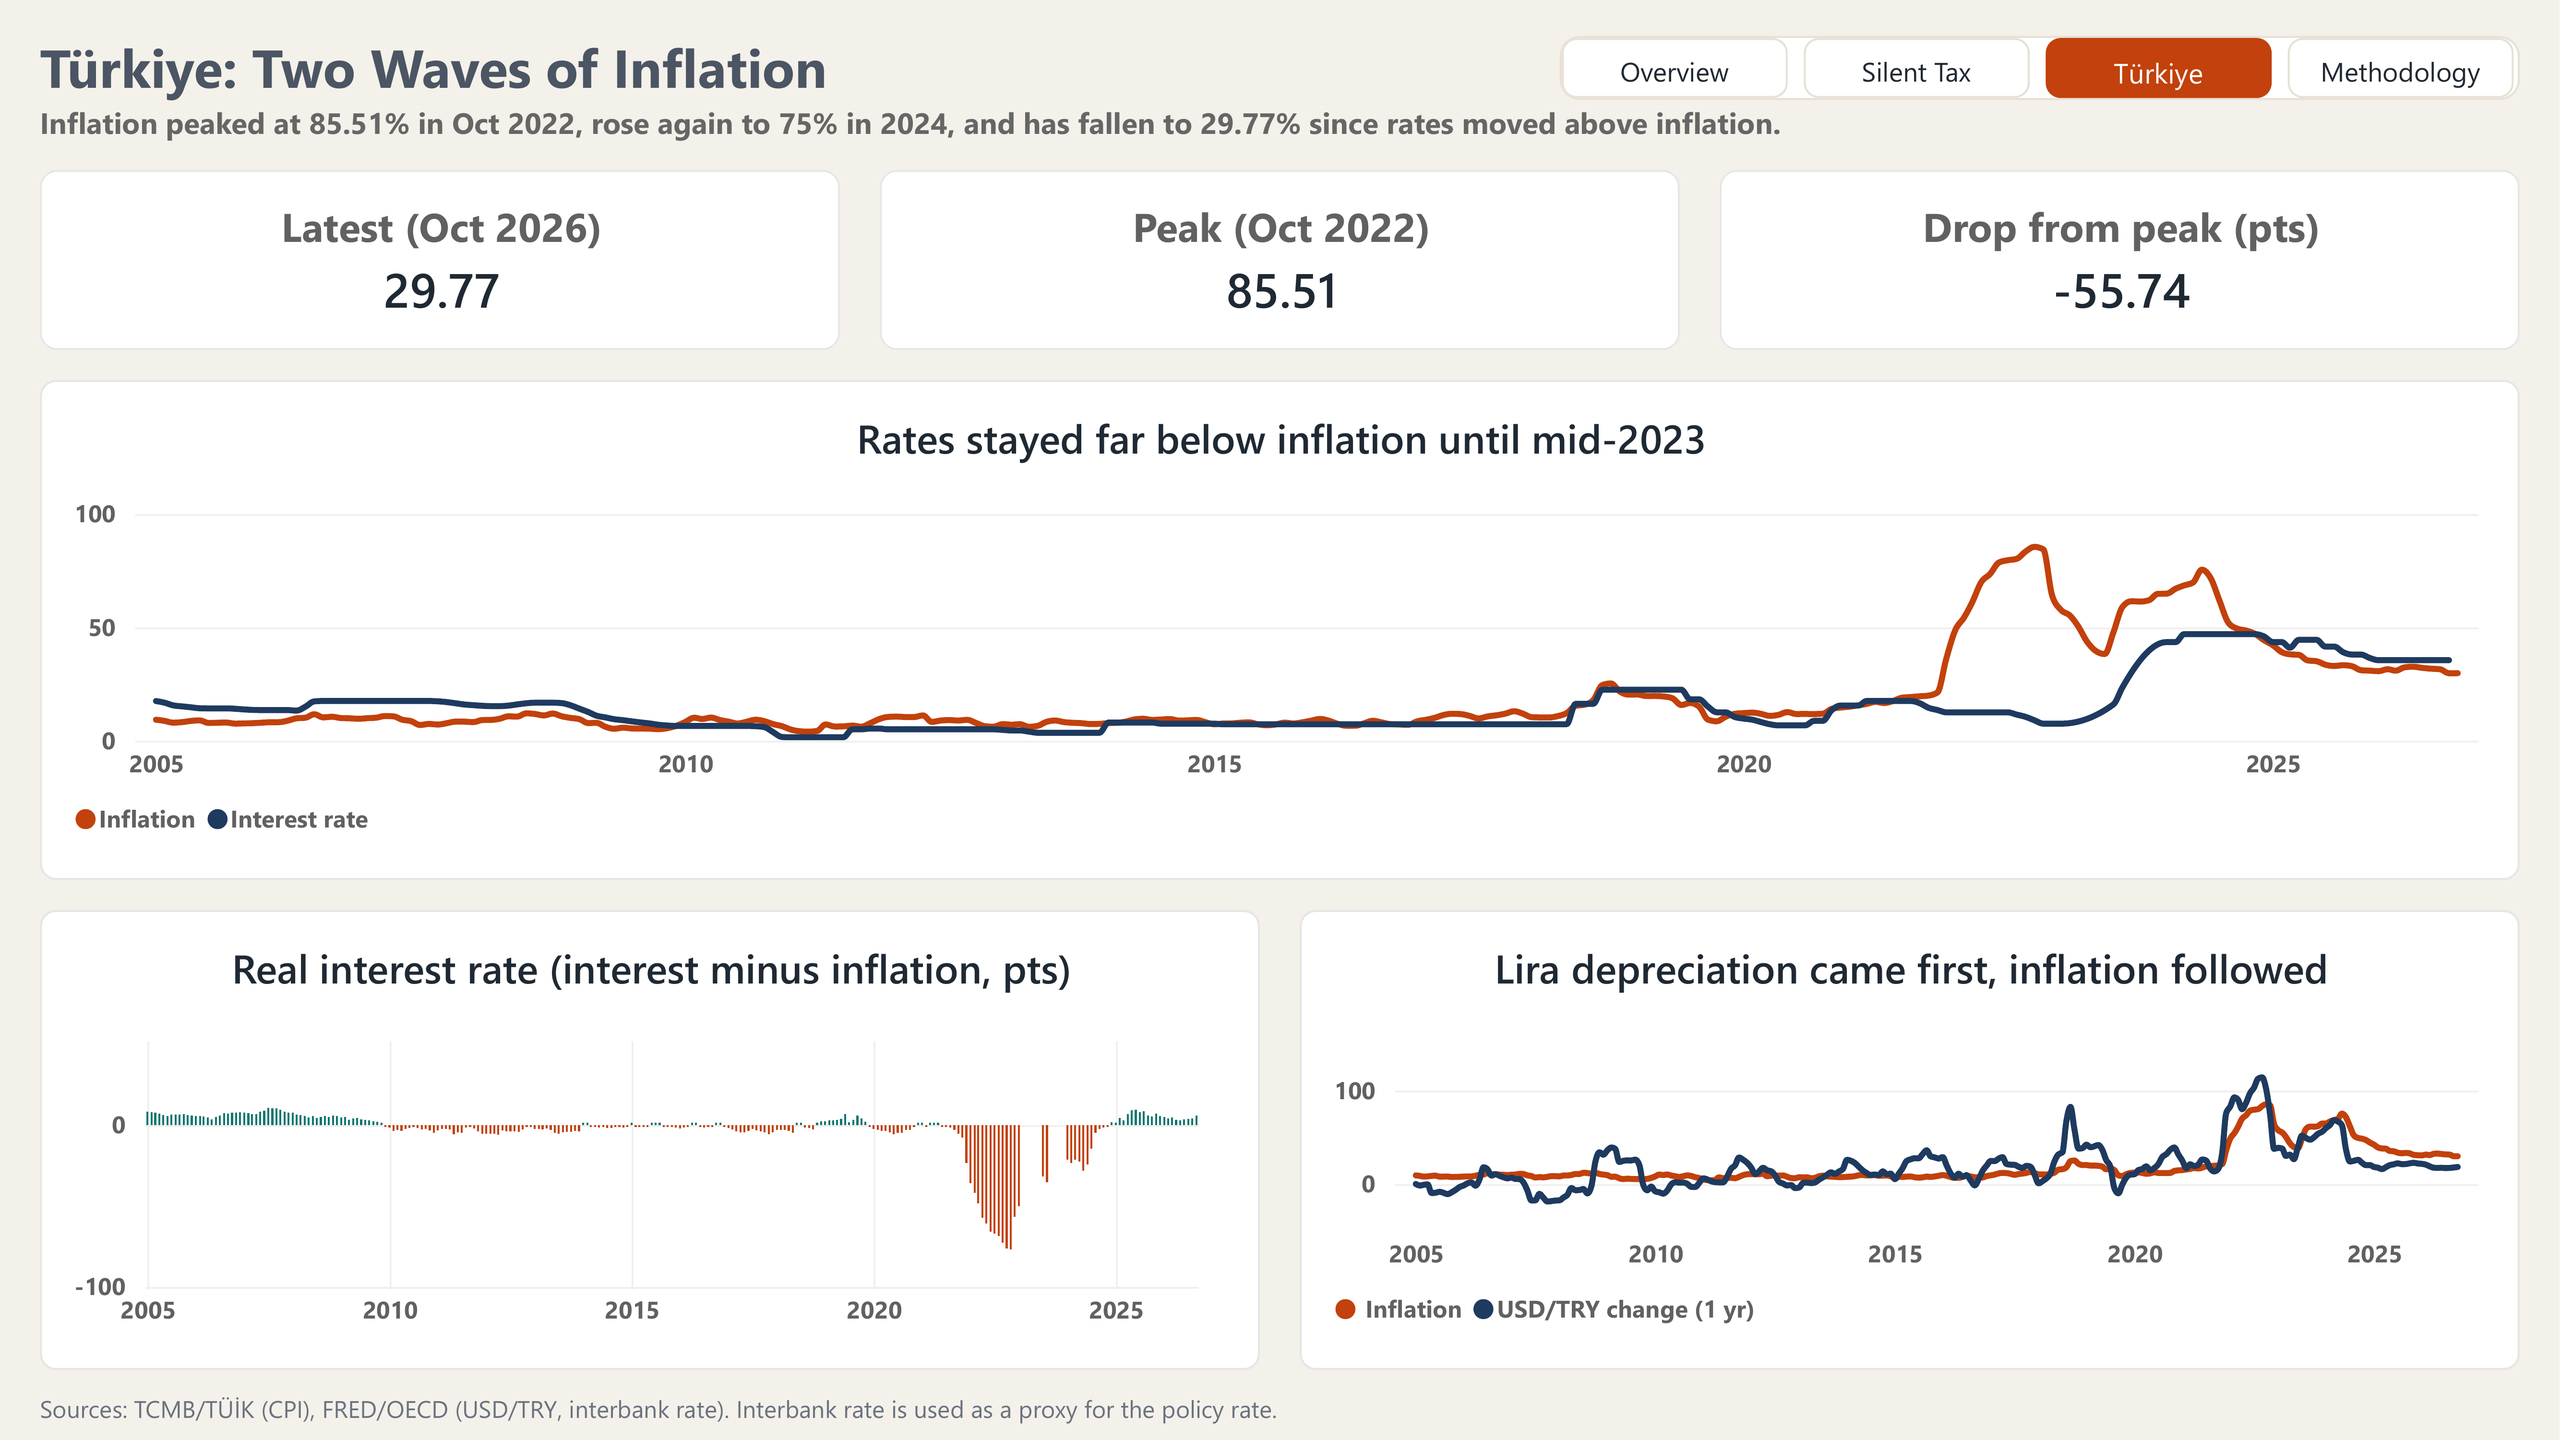

Layout of this report page (visuals, bound fields, positions):
{"tool":"powerbi","page":{"name":"Türkiye","canvas":[1280,720],"ordinal":2},"visuals":[{"type":"lineChart","title":"Rates stayed far below inflation until mid-2023","fields":{"Category":["Calendar.Date"],"Y":["Turkey Monthly.TR Annual Inflation","Interest Rate.TR Interest Rate"]},"box":[20,190,1240,250],"z":0},{"type":"cardVisual","title":"Latest (Oct 2026)","fields":{"Data":["Turkey Monthly.TR Latest"]},"box":[20,85,400,90],"z":1000},{"type":"cardVisual","fields":{"Data":["Turkey Monthly.TR Drop From Peak"]},"box":[860,85,400,90],"z":2000},{"type":"cardVisual","fields":{"Data":["Turkey Monthly.TR Peak"]},"box":[440,85,400,90],"z":3000},{"type":"clusteredColumnChart","title":"Real interest rate (interest minus inflation, pts)","fields":{"Category":["Calendar.Date"],"Y":["Interest Rate.TR Real Rate"]},"box":[20,455,610,230],"z":4000},{"type":"lineChart","title":"Lira depreciation came first, inflation followed","fields":{"Category":["Calendar.Date"],"Y":["Turkey Monthly.TR Annual Inflation","USD TRY.TR Lira Depreciation"]},"box":[650,455,610,230],"z":5000},{"type":"textbox","box":[20,15,1240,60],"z":6000},{"type":"textbox","box":[20,695,1240.6,22],"z":7000},{"type":"pageNavigator","box":[780,18,480,32],"z":7001}]}

Visuals, with their boxes in screenshot pixels (x1, y1, x2, y2), scaled from the page's 1280x720 canvas onto the 2560x1440 screenshot:
"Rates stayed far below inflation until mid-2023" lineChart: [40,380,2520,880]
"Latest (Oct 2026)" cardVisual: [40,170,840,350]
cardVisual - Turkey Monthly.TR Drop From Peak: [1720,170,2520,350]
cardVisual - Turkey Monthly.TR Peak: [880,170,1680,350]
"Real interest rate (interest minus inflation, pts)" clusteredColumnChart: [40,910,1260,1370]
"Lira depreciation came first, inflation followed" lineChart: [1300,910,2520,1370]
textbox: [40,30,2520,150]
textbox: [40,1390,2521,1434]
pageNavigator: [1560,36,2520,100]
